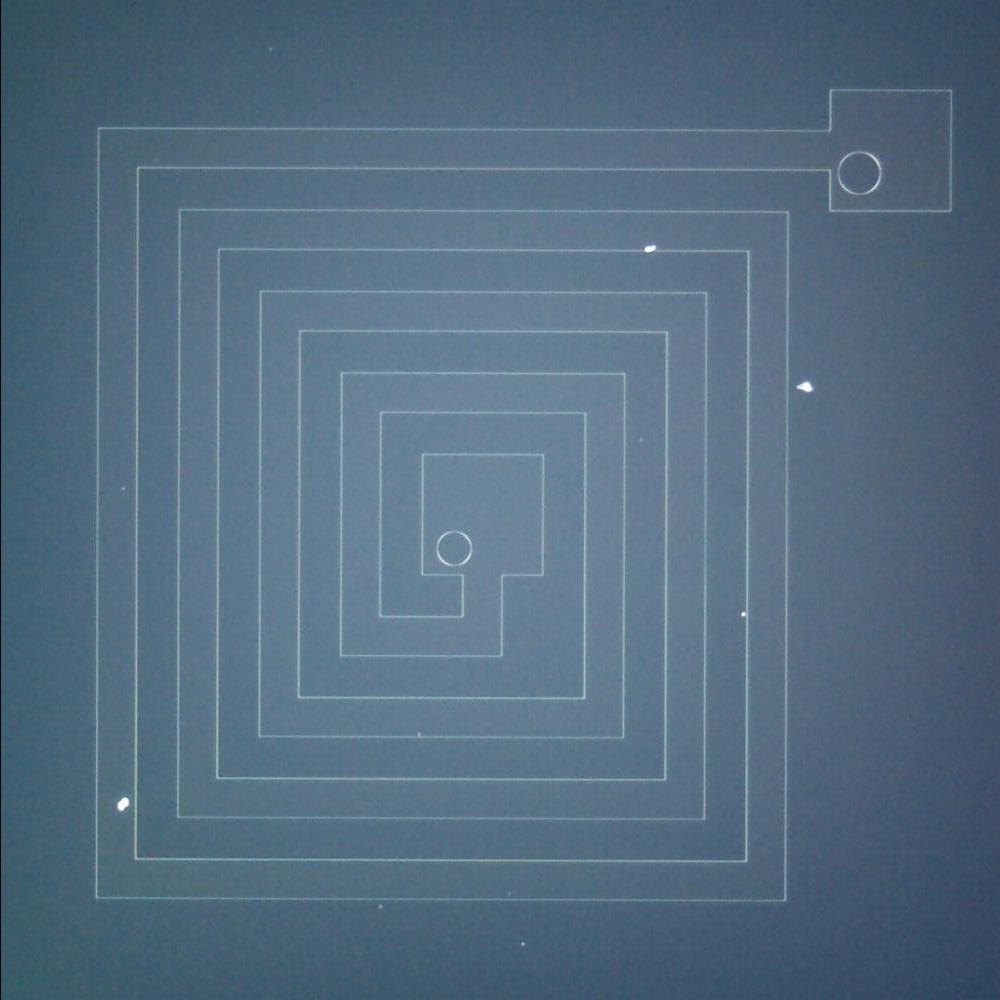circle: (831, 145, 888, 199), (432, 529, 478, 570)
dot: (727, 593, 757, 633)
spot: (107, 790, 133, 818), (636, 238, 662, 261), (793, 374, 817, 398)
